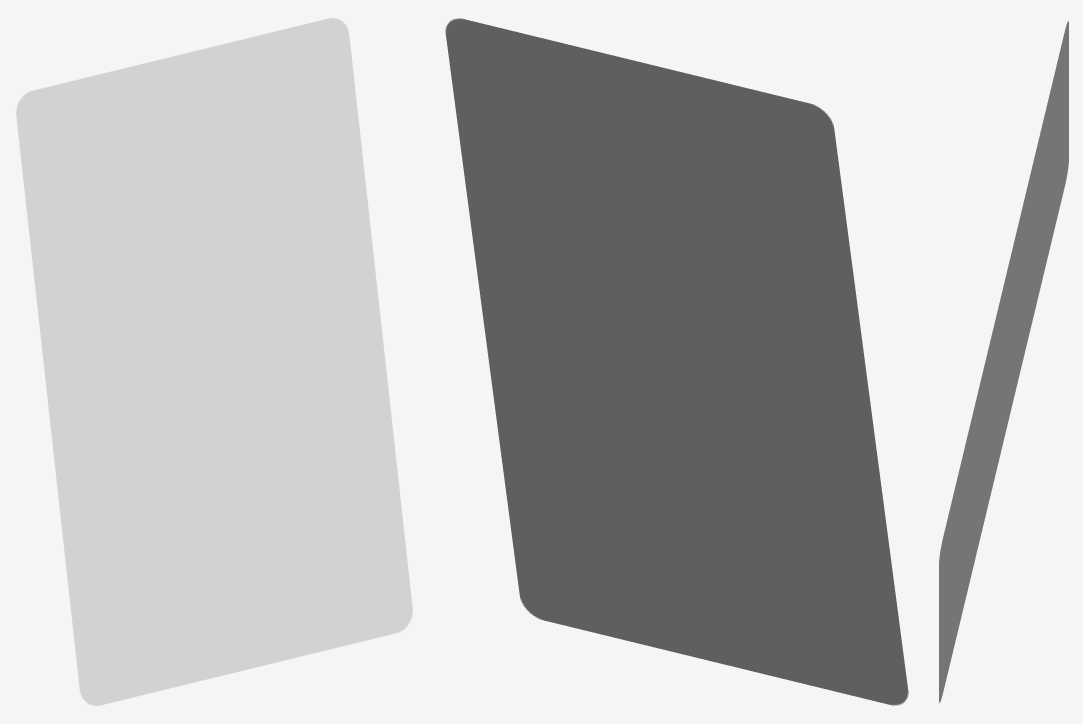
File: card.glb
3 renders of one model, left to right at view 1: azimuth 30°, elevation 25°; view 2: azimuth 150°, elevation 25°; view 3: azimuth 270°, elevation 25°, orthographic. The views are drawn at different scales.
Parts seen in each view (by area): view 1: mesh_id48; view 2: mesh_id48; view 3: mesh_id48.
Boxes of the visible parts, x1,y1,x2,y2 form: mesh_id48: (16, 17, 412, 706); mesh_id48: (445, 18, 908, 705); mesh_id48: (939, 21, 1068, 702).
Size of the model in its own units: 0.32 by 0.5188 by 0.113.
Materials: 1 (1 with a texture image).
